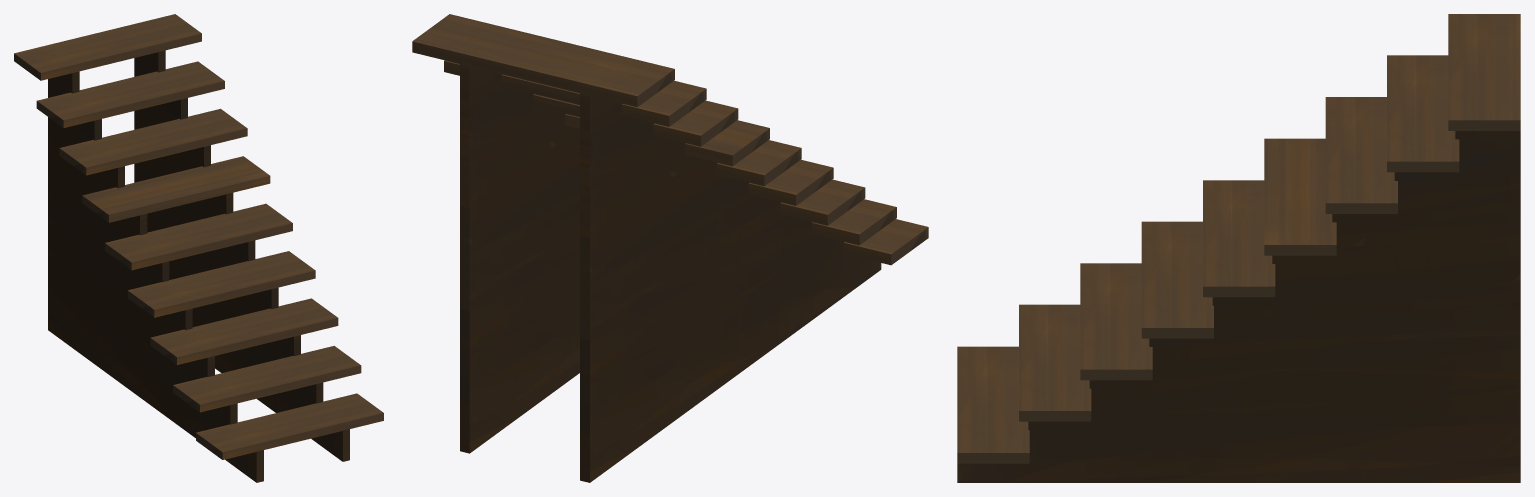
Rendered from Stairs.fbx.
3 renders of one model, left to right at view 1: azimuth 30°, elevation 25°; view 2: azimuth 150°, elevation 25°; view 3: azimuth 270°, elevation 25°, orthographic. The views are drawn at different scales.
Parts seen in each view (by area): view 1: Stairs; view 2: Stairs; view 3: Stairs.
Boxes of the visible parts, x1=… form: Stairs: x1=14, y1=14, x2=383, y2=482; Stairs: x1=412, y1=14, x2=928, y2=482; Stairs: x1=957, y1=14, x2=1520, y2=482.
Bounding box in the file's own units: 150 × 253 × 336.
Materials: 1 (1 with a texture image).
